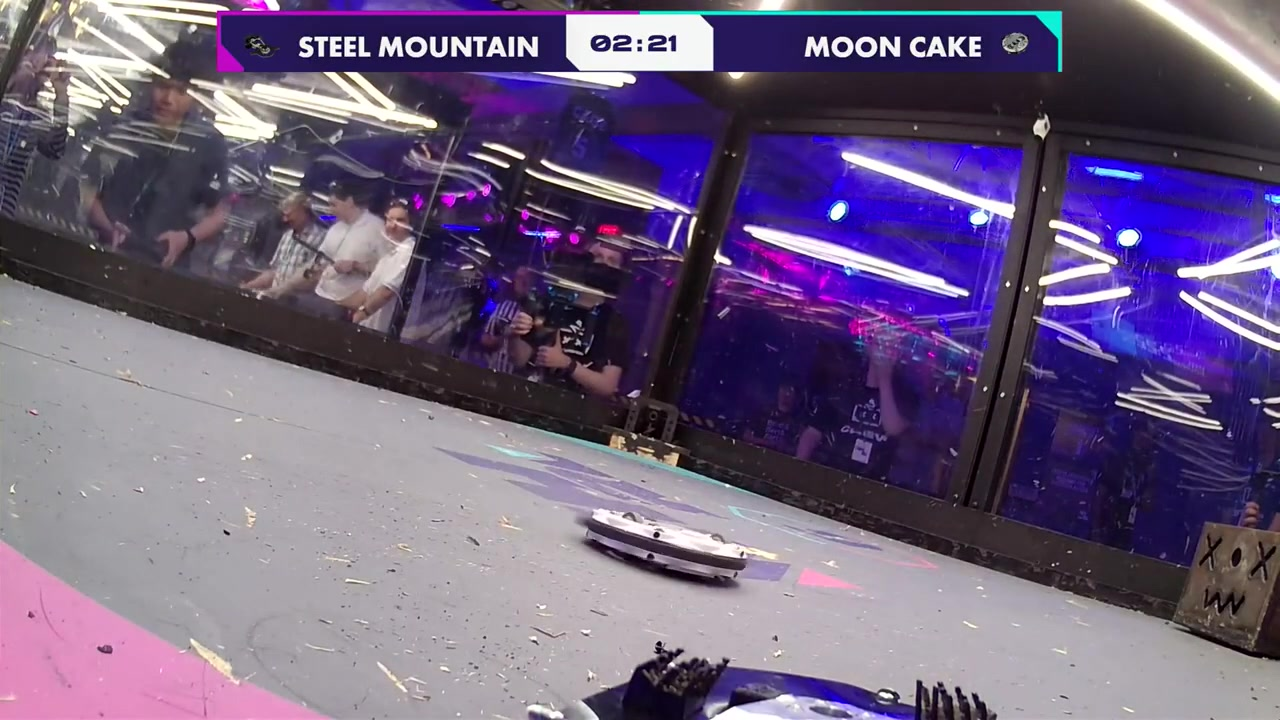combatbot: (530, 645, 999, 720), (577, 506, 749, 582)
housebot: (1174, 522, 1280, 663)
